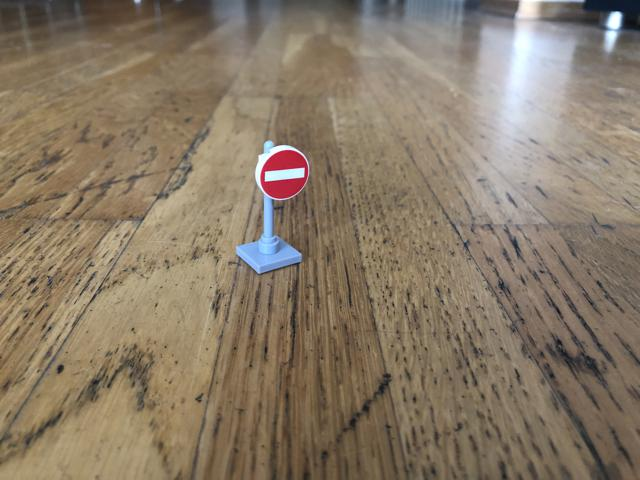verbot der einfahrt: (254, 143, 310, 203)
